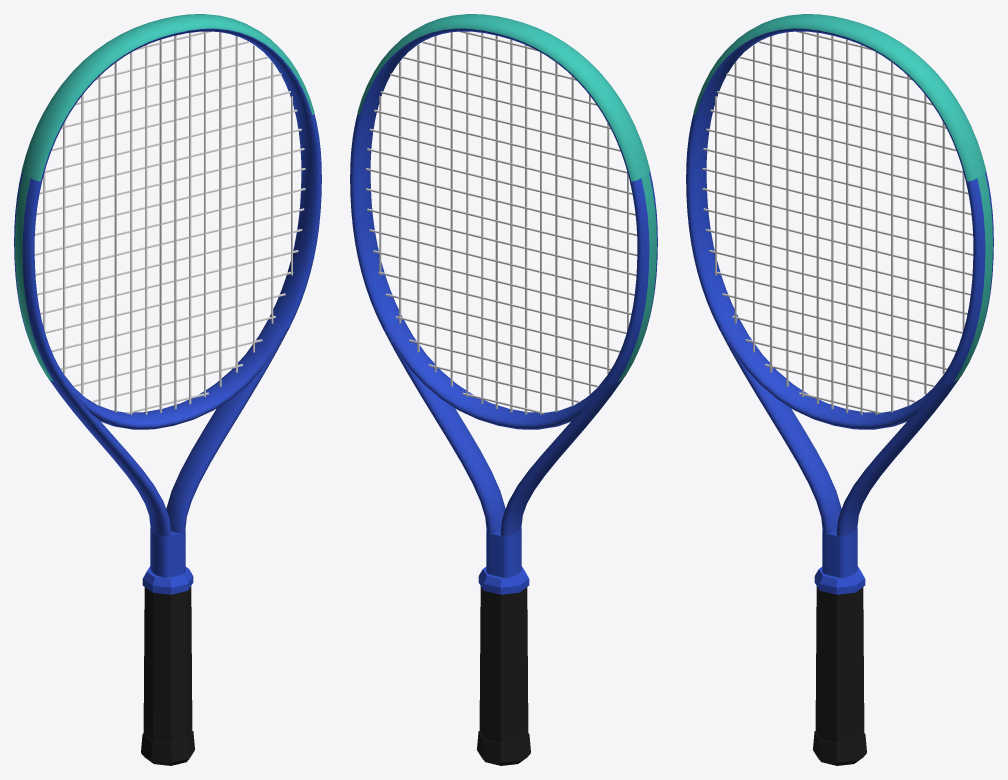
The model's file is wilson-ultra-25-v5.glb.
3 renders of one model, left to right at view 1: azimuth 30°, elevation 25°; view 2: azimuth 150°, elevation 25°; view 3: azimuth 330°, elevation 25°, orthographic.
Parts seen in each view (by area): view 1: frame, strings_mains, strings_crosses, grip, bumper, grommets, butt_cap, collar; view 2: frame, strings_mains, strings_crosses, grip, bumper, grommets, butt_cap, collar; view 3: frame, strings_mains, strings_crosses, grip, bumper, grommets, butt_cap, collar.
Part boxes in pixels (bbox=[...]): frame: bbox=[14, 28, 321, 577]; strings_mains: bbox=[43, 31, 292, 414]; strings_crosses: bbox=[34, 31, 305, 414]; grip: bbox=[143, 586, 192, 743]; bumper: bbox=[21, 14, 314, 181]; grommets: bbox=[15, 173, 53, 381]; butt_cap: bbox=[141, 731, 194, 765]; collar: bbox=[142, 566, 193, 594]; frame: bbox=[350, 28, 657, 577]; strings_mains: bbox=[379, 31, 628, 414]; strings_crosses: bbox=[366, 31, 637, 414]; grip: bbox=[479, 586, 528, 743]; bumper: bbox=[357, 14, 650, 181]; grommets: bbox=[618, 173, 656, 381]; butt_cap: bbox=[477, 731, 530, 765]; collar: bbox=[478, 566, 529, 594]; frame: bbox=[686, 28, 993, 577]; strings_mains: bbox=[715, 31, 964, 414]; strings_crosses: bbox=[702, 31, 973, 414]; grip: bbox=[815, 586, 864, 743]; bumper: bbox=[693, 14, 986, 181]; grommets: bbox=[954, 173, 992, 381]; butt_cap: bbox=[813, 731, 866, 765]; collar: bbox=[814, 566, 865, 594].
Bounding box in the file's own units: 0.2711 × 0.6353 × 0.0396.
